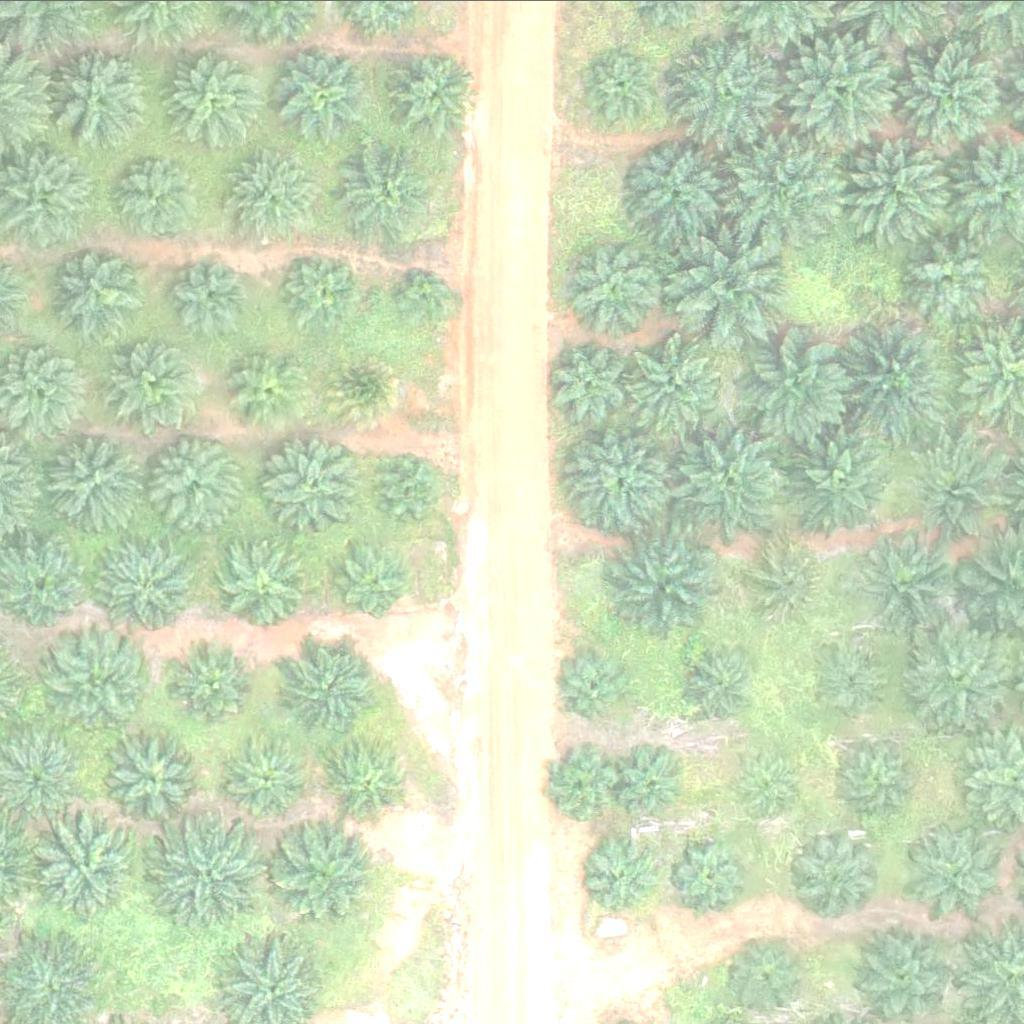Kelapa_Sawit: (603, 524, 729, 649), (664, 417, 790, 542), (734, 322, 860, 447), (667, 225, 793, 350), (726, 122, 852, 247), (891, 28, 1017, 153), (844, 128, 958, 241), (153, 813, 266, 926), (782, 34, 896, 146), (900, 621, 1013, 733), (786, 421, 899, 533), (902, 434, 1015, 546), (839, 322, 952, 434), (667, 39, 780, 151), (49, 46, 150, 146), (165, 47, 266, 147), (44, 809, 145, 909), (280, 633, 381, 733), (266, 820, 367, 920), (567, 432, 668, 532), (382, 44, 482, 144), (332, 138, 432, 238), (60, 630, 160, 730), (146, 428, 246, 528), (264, 432, 364, 532), (857, 923, 957, 1023), (906, 821, 1006, 921), (624, 333, 724, 433), (630, 143, 730, 243), (322, 735, 411, 823), (109, 337, 197, 425), (109, 735, 197, 823), (49, 434, 137, 522), (170, 633, 258, 721), (221, 732, 309, 820), (792, 828, 880, 916), (835, 733, 923, 821), (905, 231, 993, 319), (278, 47, 366, 134), (109, 153, 197, 240), (221, 151, 309, 238), (58, 248, 146, 335), (104, 541, 192, 628), (223, 535, 311, 622), (858, 537, 946, 624), (545, 340, 633, 427), (571, 246, 659, 333), (234, 350, 310, 425), (173, 260, 249, 335), (588, 47, 664, 122), (282, 253, 358, 328), (323, 349, 399, 424), (372, 451, 448, 526), (733, 932, 809, 1007), (751, 543, 826, 618), (331, 541, 406, 616), (584, 835, 659, 910), (676, 835, 751, 910), (542, 751, 617, 826), (620, 747, 695, 822), (557, 649, 632, 724), (687, 646, 762, 721), (817, 640, 892, 715), (395, 264, 458, 326), (739, 754, 802, 816)
